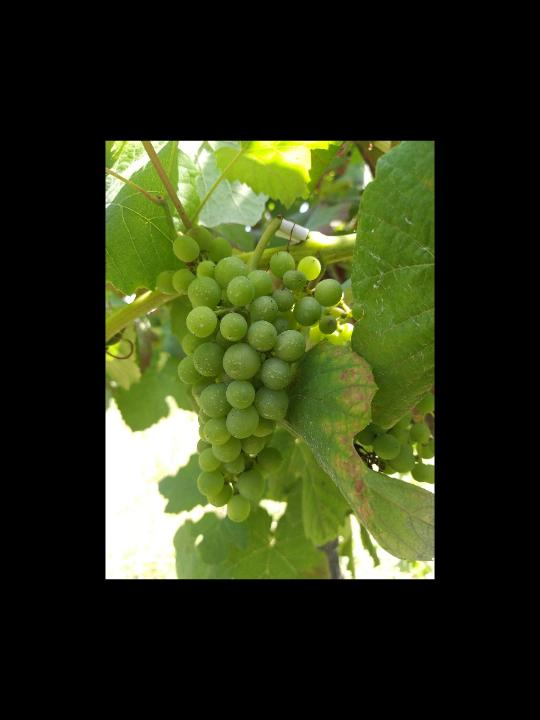grape: (155, 225, 347, 525)
